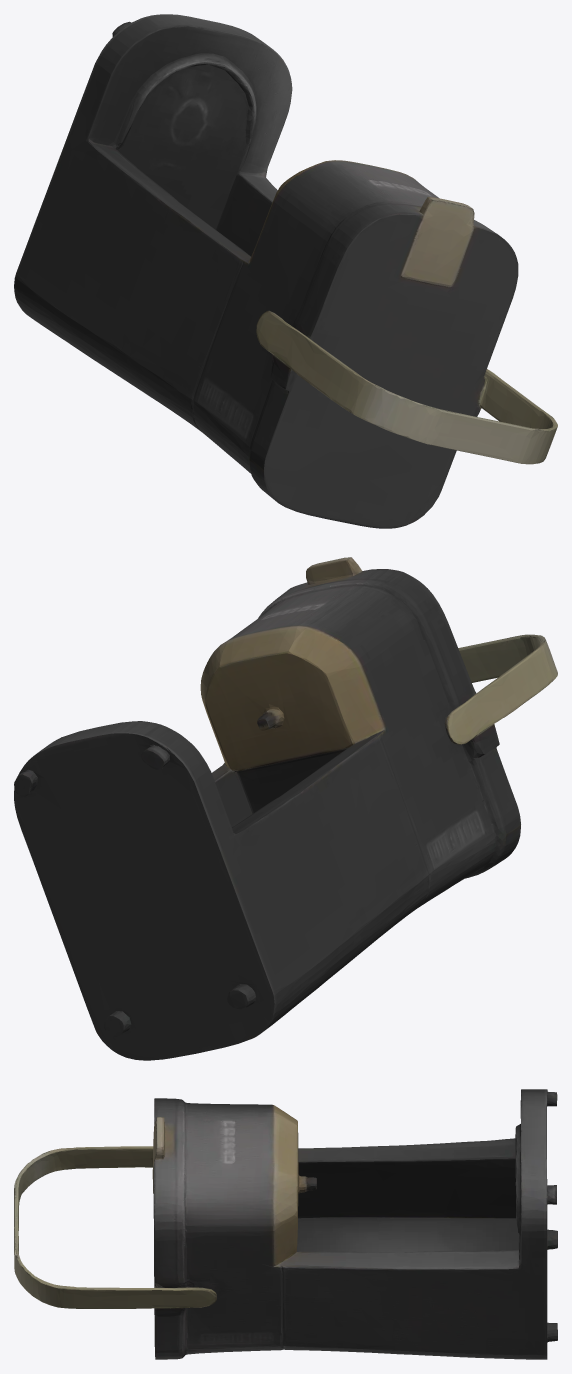
3 views of the same model, one above another, from view 1: azimuth 30°, elevation 25°; view 2: azimuth 150°, elevation 25°; view 3: azimuth 270°, elevation 25° (orthographic). The views are drawn at different scales.
Parts seen in each view (by area): view 1: geometry_0; view 2: geometry_0; view 3: geometry_0.
Part boxes in pixels (left/top/right/bottom): geometry_0: left=14, top=14, right=557, bottom=528; geometry_0: left=14, top=557, right=557, bottom=1060; geometry_0: left=14, top=1089, right=557, bottom=1359.
Bounding box in the file's own units: 0.1813 × 0.2181 × 0.4138.
1 material, 1 textured.
